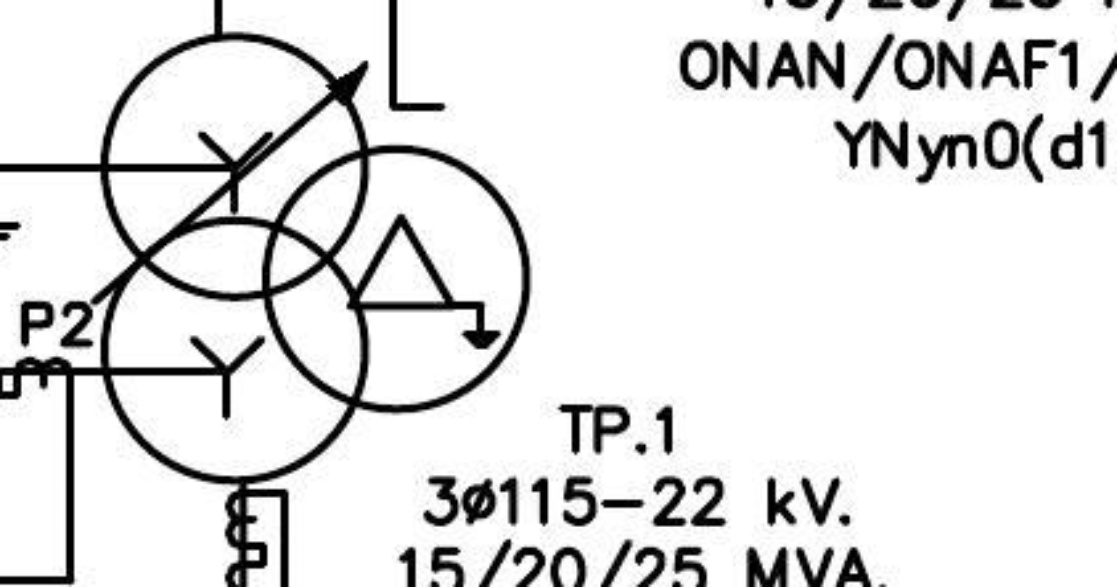11522_tx_ynyn0d1: (98, 30, 534, 488)
